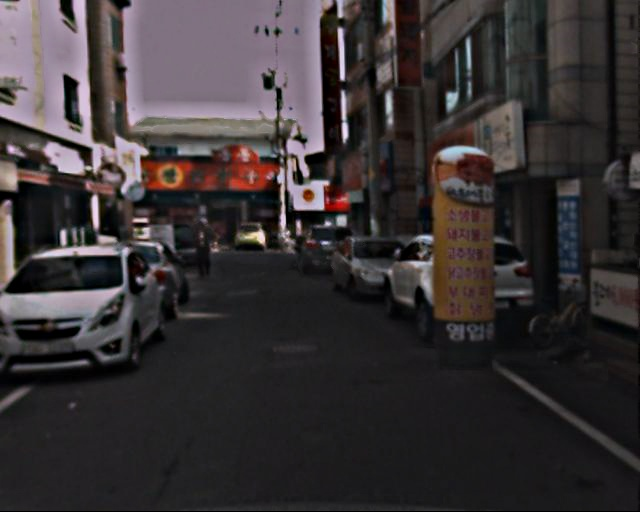person: (190, 219, 218, 278)
